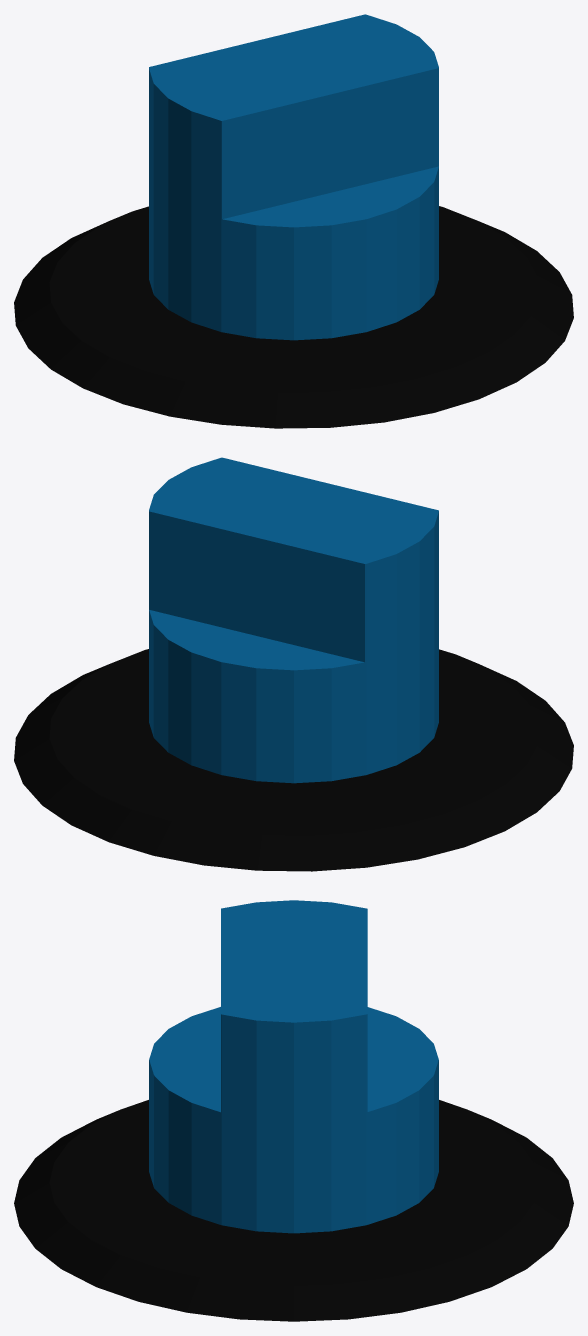
File: props.fbx_reg3.fbx
The picture shows the model from 3 angles, top to bottom: view 1: azimuth 30°, elevation 25°; view 2: azimuth 150°, elevation 25°; view 3: azimuth 270°, elevation 25°; orthographic projection.
Visible parts, largest first — view 1: Cylinder.010, Circle.028; view 2: Cylinder.010, Circle.028; view 3: Cylinder.010, Circle.028.
Part boxes in pixels (box(x1,y1,x2,y2)): Cylinder.010: box(149, 14, 438, 340); Circle.028: box(14, 206, 573, 428); Cylinder.010: box(149, 457, 438, 783); Circle.028: box(14, 649, 573, 871); Cylinder.010: box(149, 900, 438, 1233); Circle.028: box(14, 1100, 573, 1321).
Bounding box in the file's own units: 0.6411 × 0.3056 × 0.6411.
